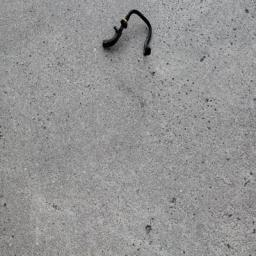FOD: (100, 8, 157, 60)
